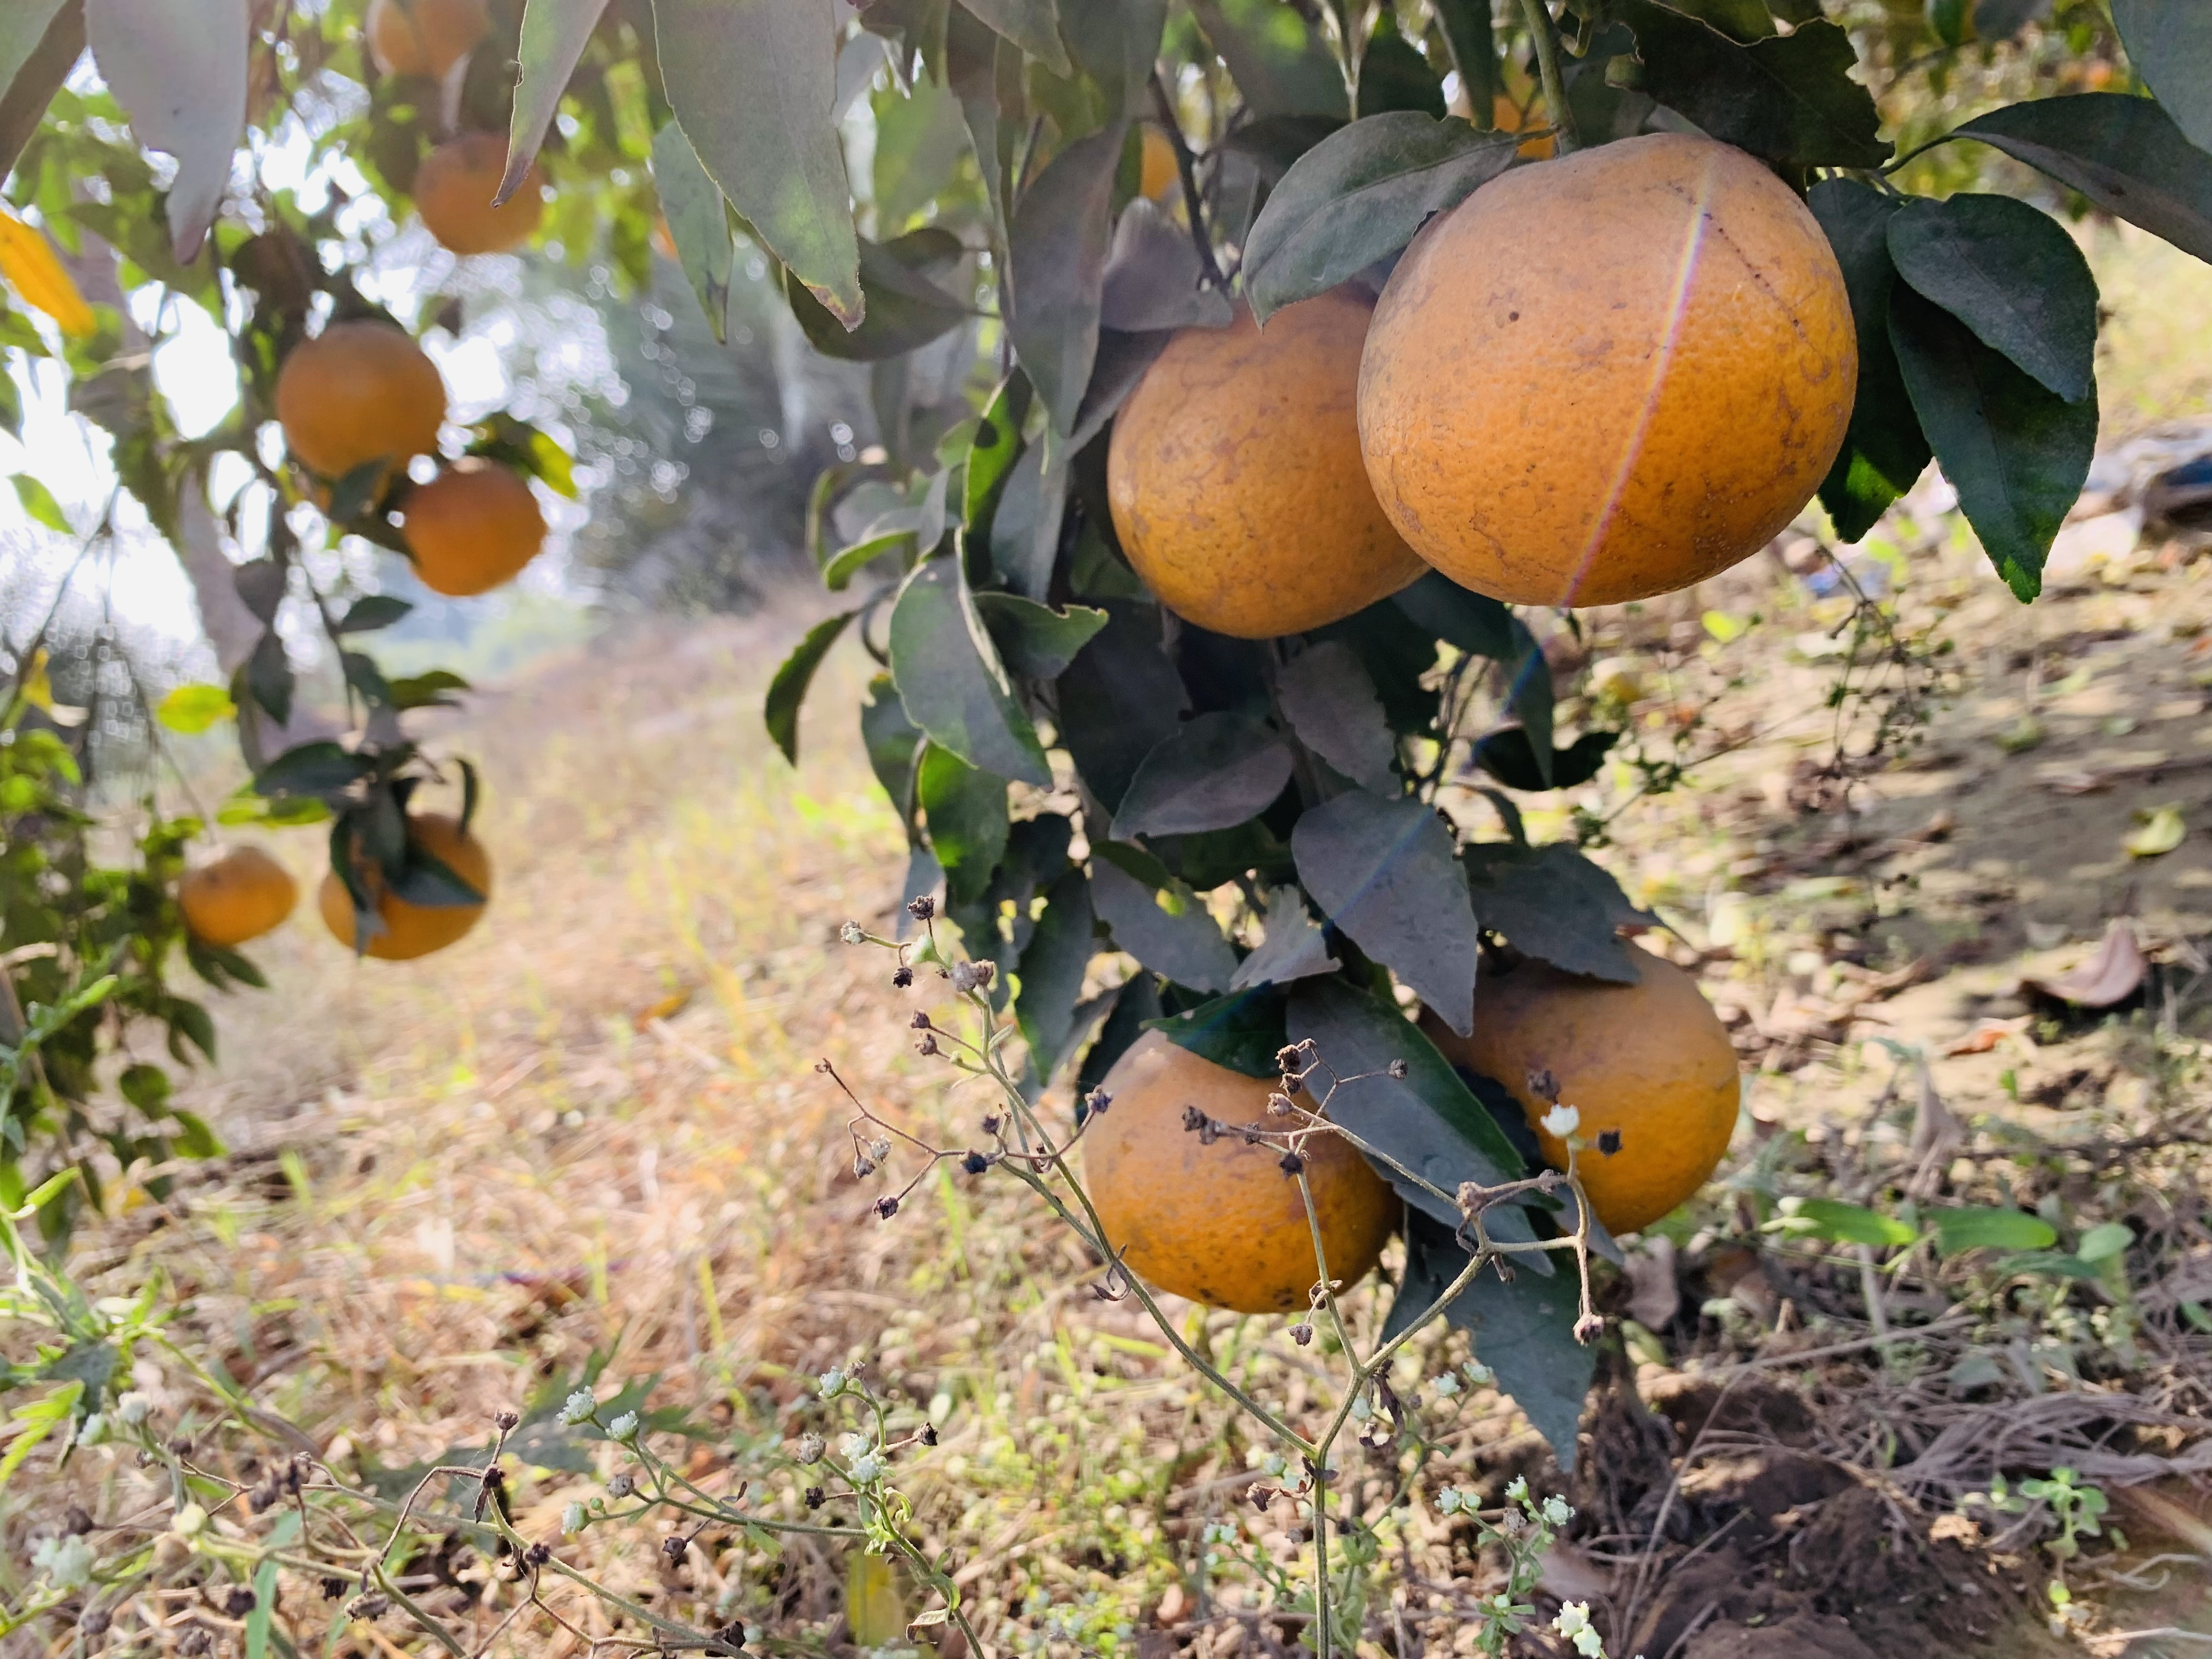orange: (1353, 127, 1862, 610), (1106, 298, 1420, 638), (1082, 1028, 1388, 1310), (1467, 943, 1738, 1229), (275, 326, 453, 474), (315, 809, 491, 957), (402, 453, 547, 598), (413, 132, 543, 251), (176, 840, 298, 941), (364, 3, 489, 78), (1454, 64, 1554, 157), (1141, 124, 1179, 200)
